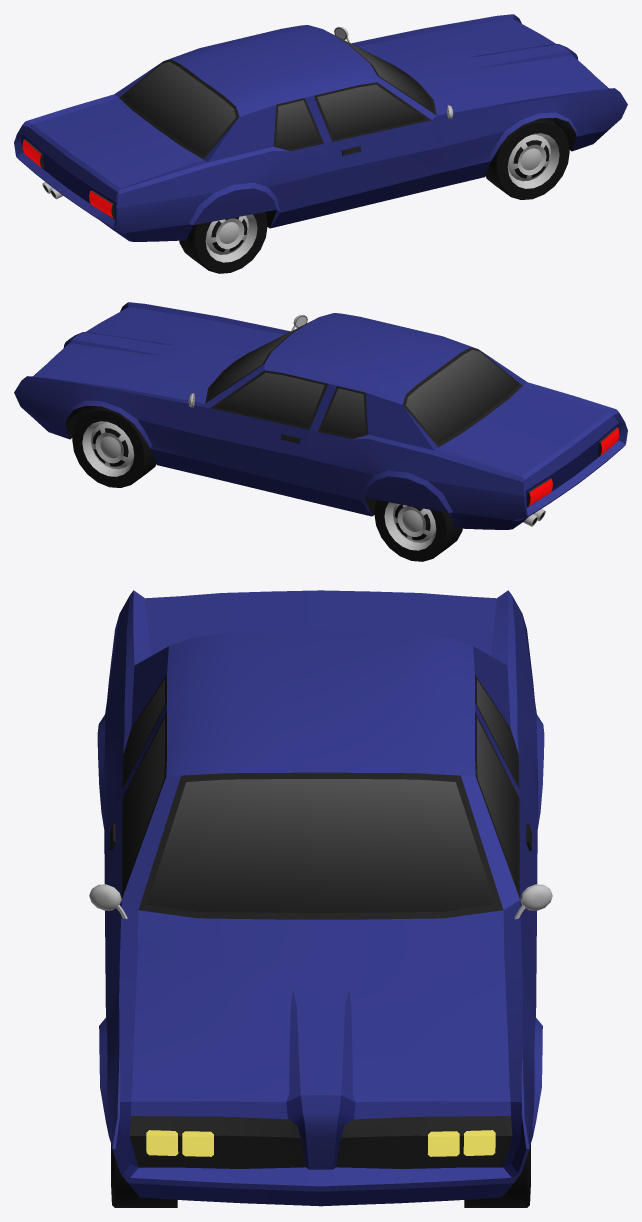
The model's file is Car_134.glb.
3 renders of one model, top to bottom at view 1: azimuth 30°, elevation 25°; view 2: azimuth 150°, elevation 25°; view 3: azimuth 270°, elevation 25°, orthographic. The views are drawn at different scales.
Visible parts, largest first — view 1: Car_134, wheel_1_Car_134_Wheel_1R, wheel_3_Car_134_Wheel_2R; view 2: Car_134, wheel_0_Car_134_Wheel_1L, wheel_2_Car_134_Wheel_2L; view 3: Car_134, wheel_1_Car_134_Wheel_1R, wheel_0_Car_134_Wheel_1L.
Boxes of the visible parts, x1,y1,x2,y2 form: Car_134: [14, 14, 627, 241]; wheel_1_Car_134_Wheel_1R: [485, 118, 569, 199]; wheel_3_Car_134_Wheel_2R: [179, 212, 267, 273]; Car_134: [14, 302, 627, 529]; wheel_0_Car_134_Wheel_1L: [72, 406, 156, 487]; wheel_2_Car_134_Wheel_2L: [374, 500, 462, 561]; Car_134: [89, 590, 552, 1206]; wheel_1_Car_134_Wheel_1R: [111, 1144, 177, 1207]; wheel_0_Car_134_Wheel_1L: [464, 1144, 530, 1207].
Size of the model in its own units: 5.08 by 1.44 by 1.98.
Materials: 2 (2 with a texture image).
